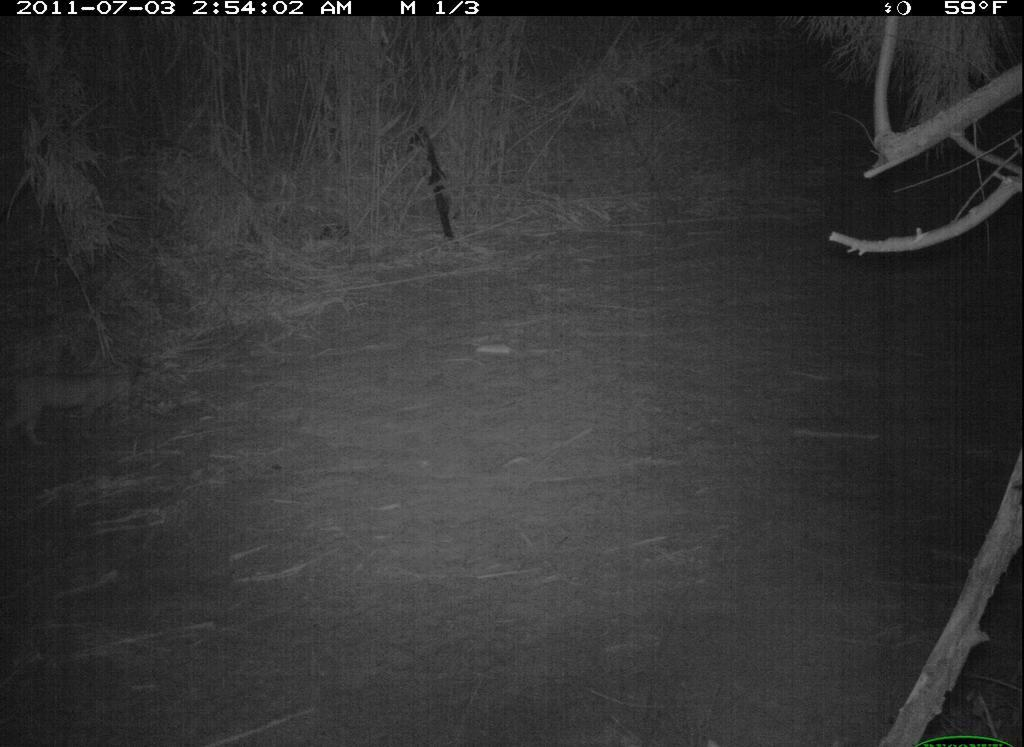bobcat: (15, 364, 144, 449)
